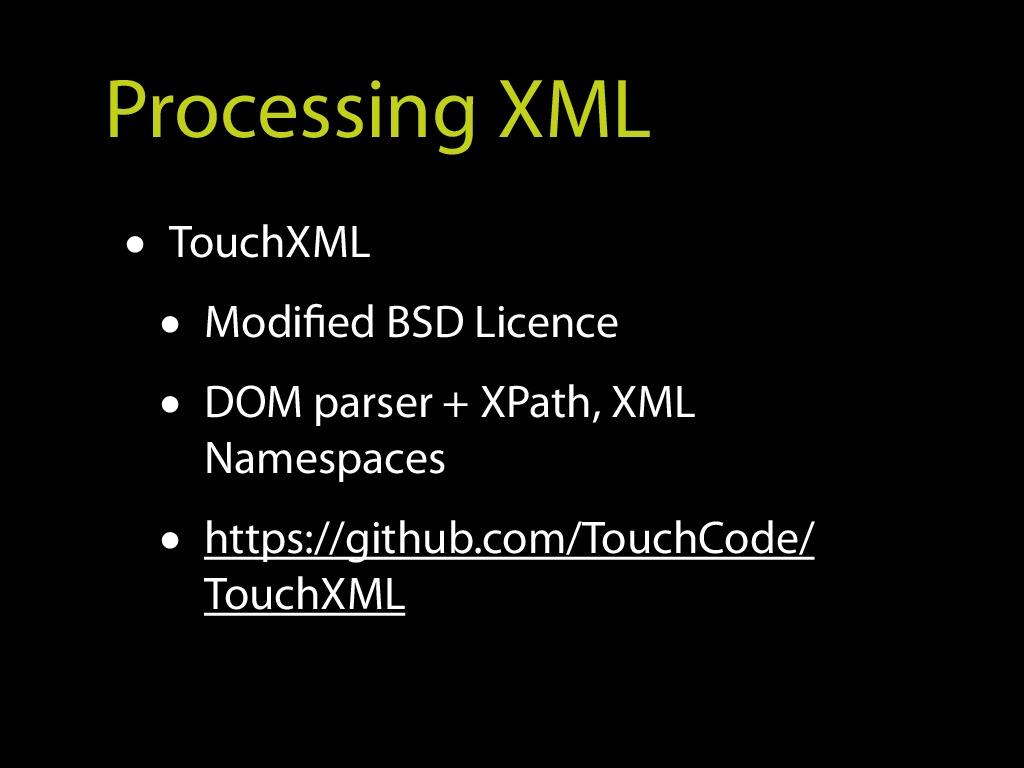paragraph: (105, 207, 873, 639)
title: (86, 50, 679, 159)
